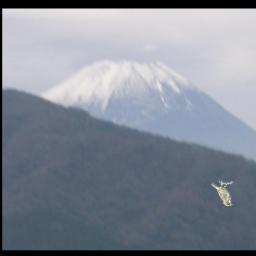Sparrow: (212, 181, 233, 207)
